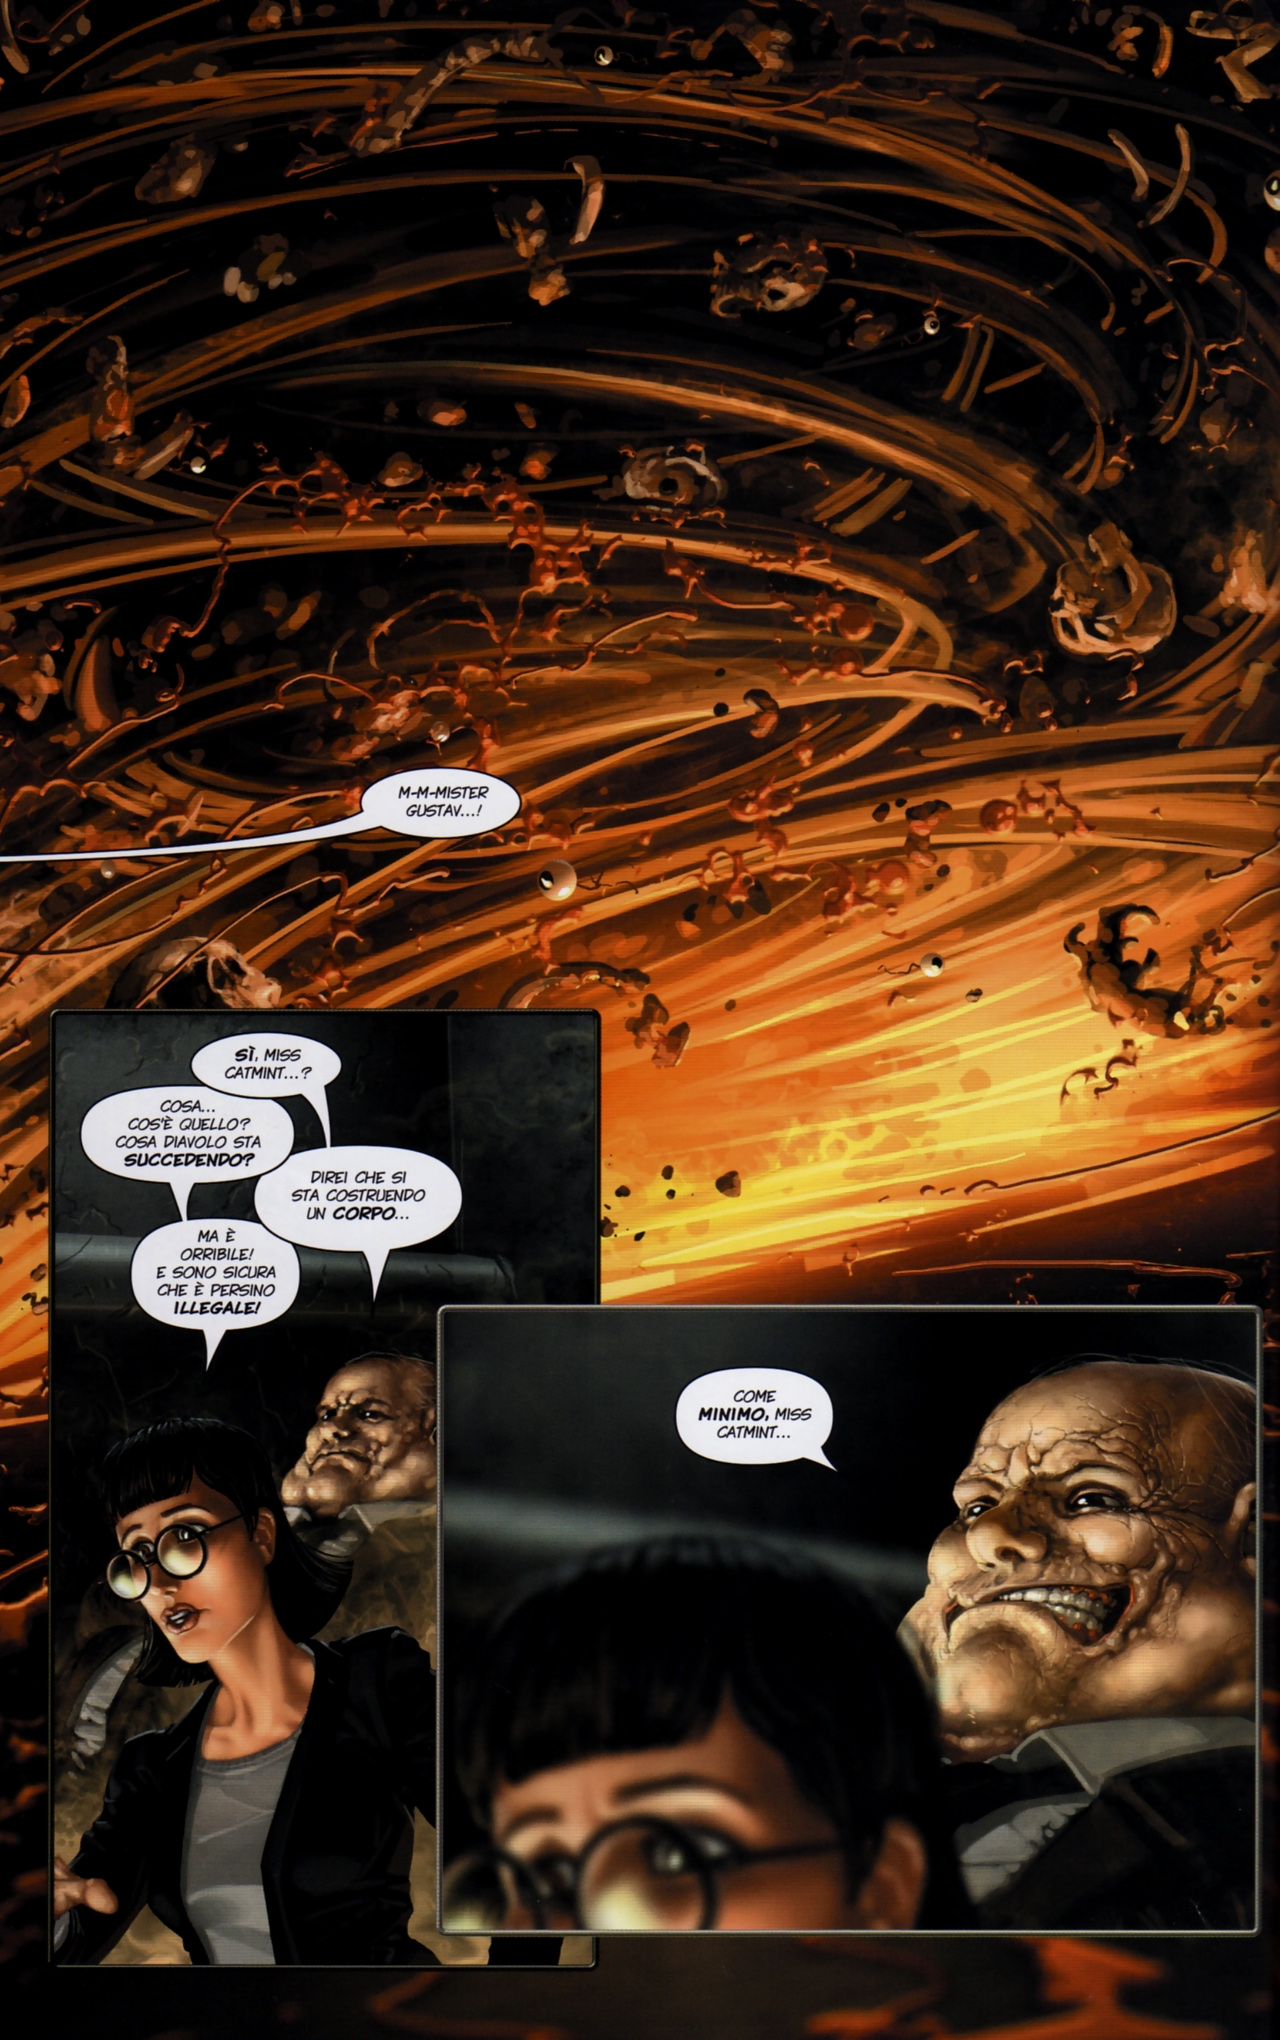Baloon: (254, 1144, 463, 1269), (86, 1082, 293, 1194), (136, 1216, 304, 1355), (664, 1366, 869, 1473), (293, 772, 516, 842), (195, 1032, 357, 1101)
Vignetta: (1, 7, 1276, 2039), (435, 1304, 1256, 1938), (55, 1010, 594, 1969)
